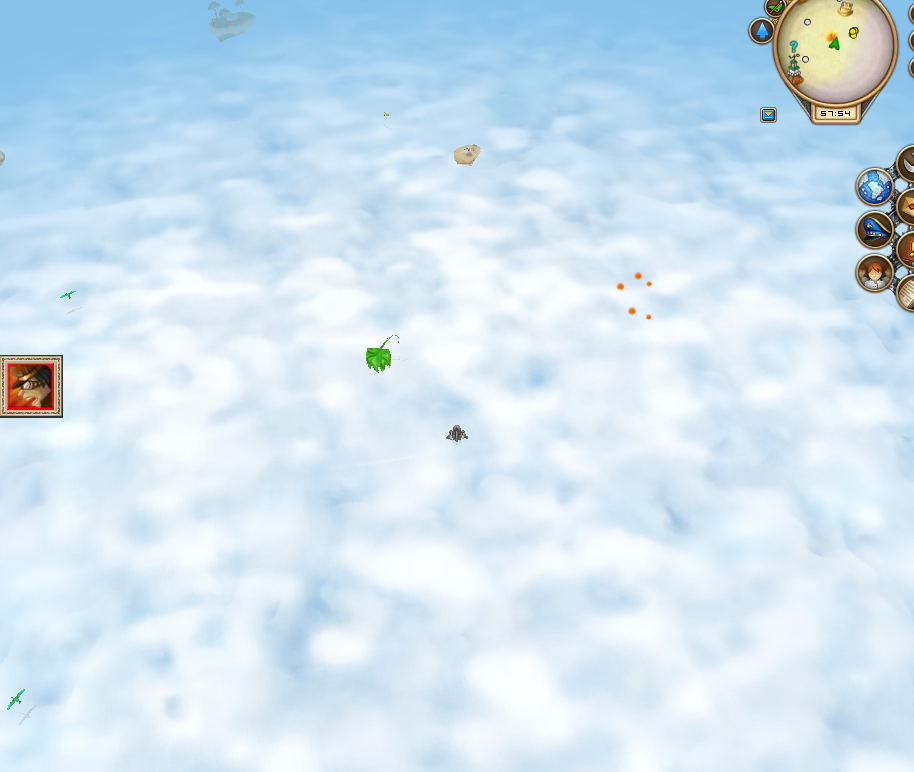dandelion-empty: (357, 330, 404, 374)
fluff: (614, 281, 625, 293), (626, 305, 637, 317), (634, 269, 643, 281), (643, 279, 653, 289), (645, 312, 652, 323)
